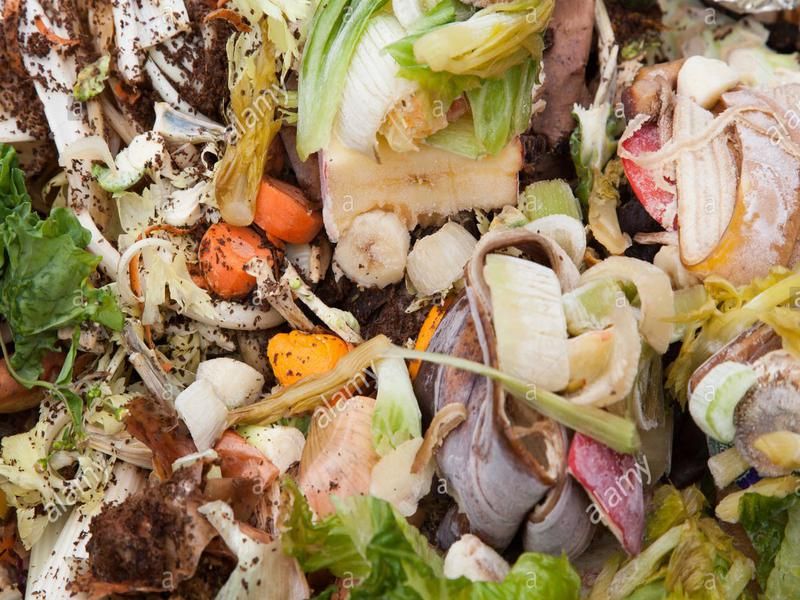vegetation: (5, 4, 800, 600)
